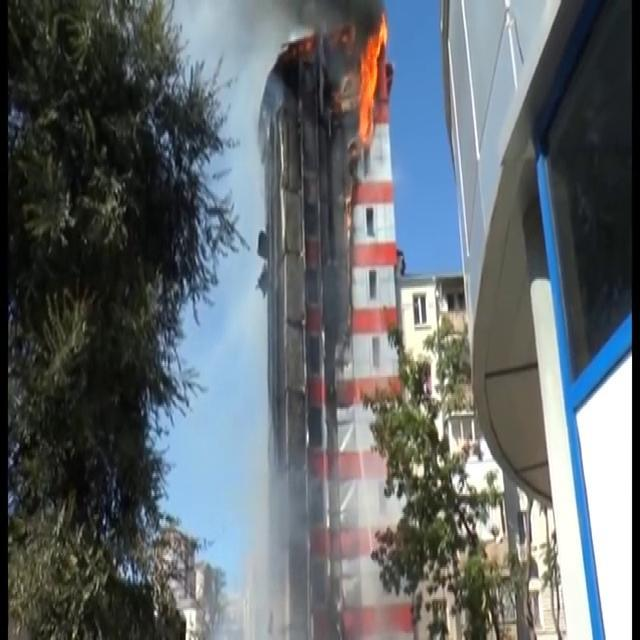Fire: (354, 6, 391, 145)
